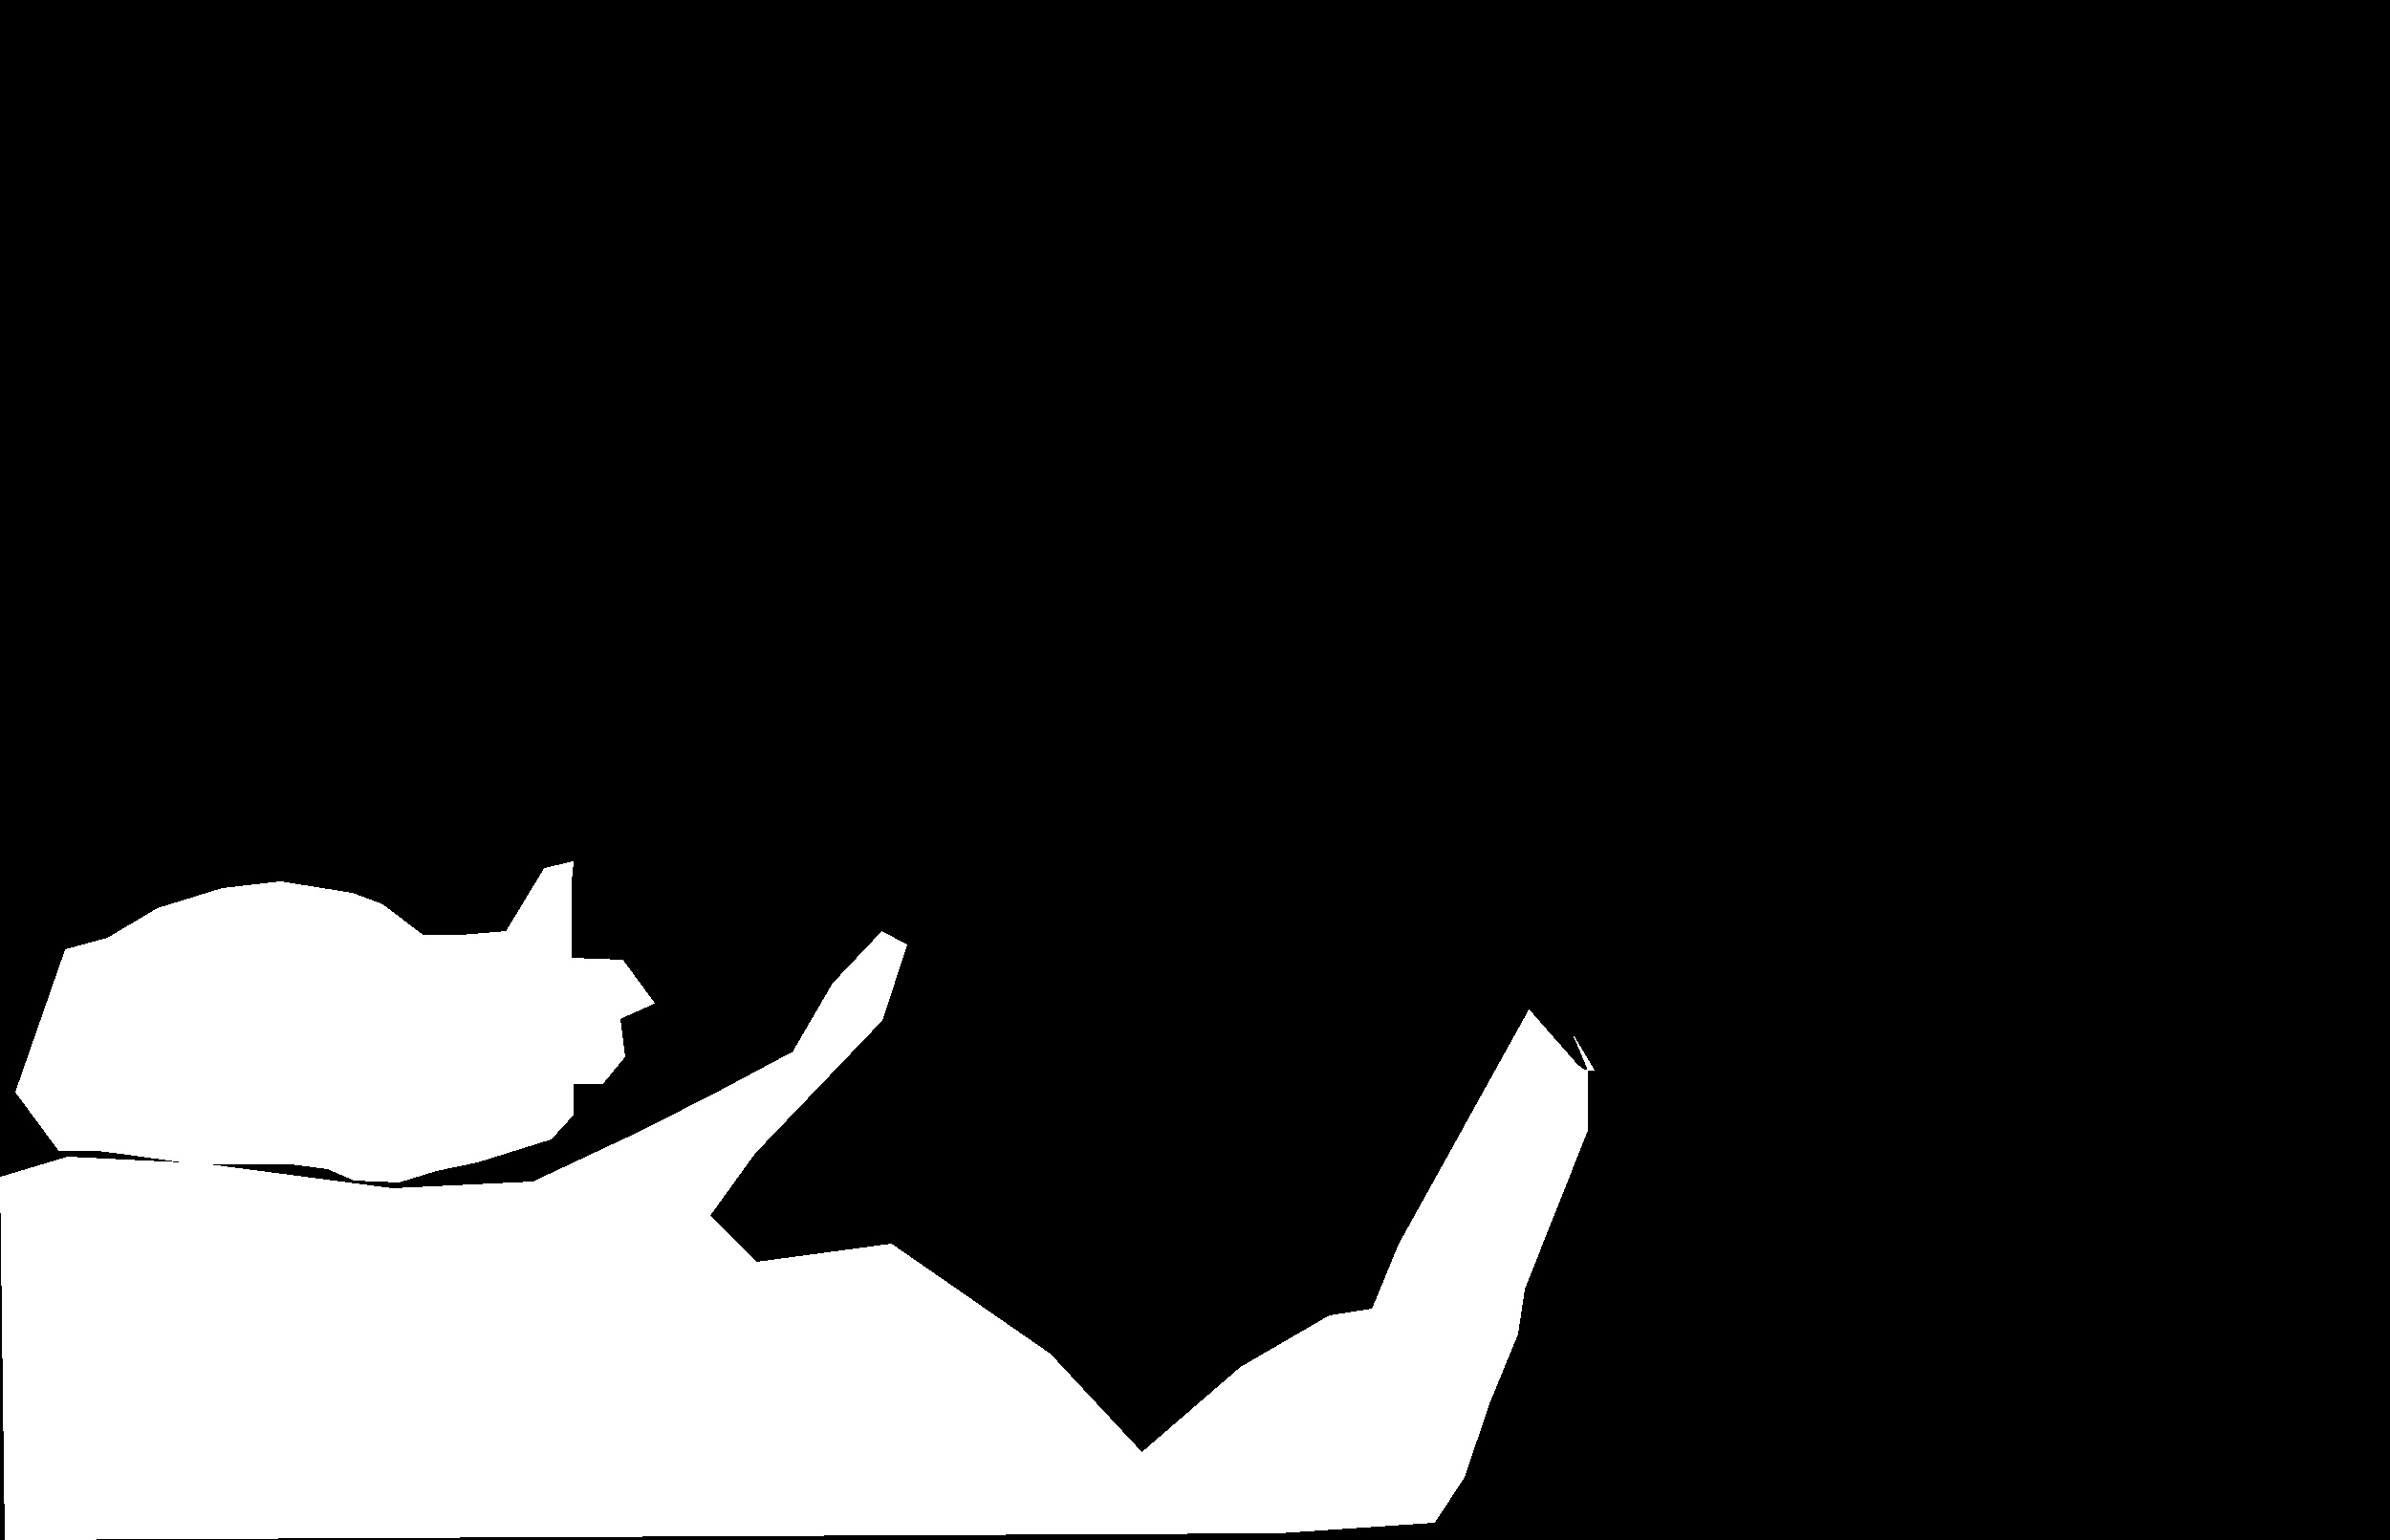Fire: (2, 862, 658, 1152)
